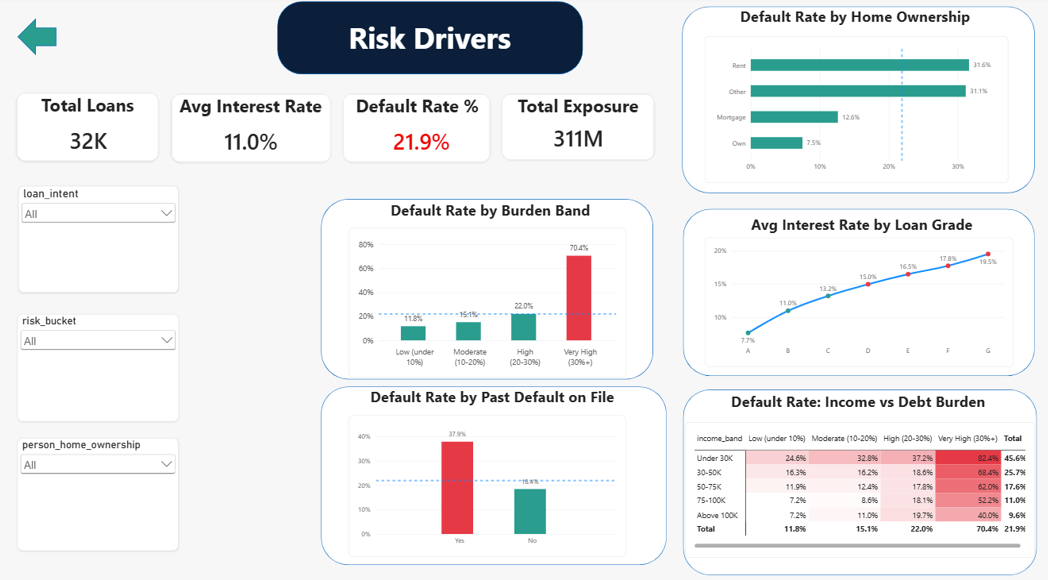

What the dashboard file says about the page in this screenshot:
{"tool":"powerbi","page":{"name":"Risk Drivers","canvas":[1920,1080],"ordinal":2},"visuals":[{"type":"textbox","box":[642.6,46,406.5,54.1],"z":0},{"type":"shape","box":[587.6,368.7,606.3,329.4],"z":1000},{"type":"shape","box":[1246.3,18.7,643.7,340.6],"z":2000},{"type":"shape","box":[1248.2,716.7,645.6,338.7],"z":3000},{"type":"shape","box":[587.6,711.1,630.6,325.6],"z":4000},{"type":"textbox","box":[713,370.5,368.5,54.1],"z":5000},{"type":"textbox","box":[671.8,711.1,458.5,52.4],"z":6000},{"type":"clusteredColumnChart","fields":{"Category":["loan.burden_band"],"Y":["loan.Defaults Rate%"]},"box":[638.1,421.1,505.3,273.2],"z":7000},{"type":"columnChart","fields":{"Category":["loan.cb_person_default_on_file"],"Y":["loan.Defaults Rate%"]},"box":[638.1,763.5,505.3,258.2],"z":8000},{"type":"clusteredBarChart","fields":{"Category":["loan.person_home_ownership"],"Y":["loan.Defaults Rate%"]},"box":[1289.4,73,553.9,267.6],"z":9000},{"type":"pivotTable","fields":{"Columns":["loan.burden_band"],"Rows":["loan.income_band"],"Values":["loan.Defaults Rate%"]},"box":[1251.9,776.6,638.1,247],"z":10000},{"type":"textbox","box":[1339.9,18.7,447.3,48.7],"z":11000},{"type":"textbox","box":[1315.2,720.8,505.3,56.1],"z":12000},{"type":"shape","box":[314.4,177.8,291.9,125.4],"z":16000},{"type":"shape","box":[917,177.8,278.8,121.6],"z":17000},{"type":"shape","box":[31.8,175.9,260.1,125.4],"z":18000},{"type":"shape","box":[628.8,177.8,269.5,125.4],"z":19000},{"type":"textbox","box":[41.2,175.9,241.4,44.9],"z":20000},{"type":"textbox","box":[930.1,177.8,254.3,42.1],"z":21000},{"type":"textbox","box":[641.9,177.8,243.3,44.9],"z":22000},{"type":"textbox","box":[318.1,177.8,282.6,46.8],"z":23000},{"type":"cardVisual","fields":{"Data":["loan.Total Loans"]},"box":[89.8,222.7,146.2,78.1],"z":24000},{"type":"cardVisual","fields":{"Data":["loan.Total Exposure"]},"box":[984.3,218.9,146.2,78.1],"z":25000},{"type":"cardVisual","fields":{"Data":["loan.Defaults Rate%"]},"box":[698,224.6,146.2,78.1],"z":26000},{"type":"cardVisual","fields":{"Data":["loan.Avg Interest rate"]},"box":[387.4,224.6,146.2,78.1],"z":27000},{"type":"shape","box":[1248.2,387.4,641.9,305],"z":28000},{"type":"textbox","box":[1362.3,396.7,424.8,54.3],"z":29000},{"type":"lineChart","fields":{"Category":["loan.loan_grade"],"Y":["loan.Avg Interest rate"]},"box":[1289.4,439.8,563.3,235.8],"z":30000},{"type":"shape","box":[509,9.4,557.7,132.9],"z":31000},{"type":"textbox","box":[565.1,37.4,443.5,78.6],"z":32000},{"type":"shape","box":[33.7,39.3,71.1,67.4],"z":33000},{"type":"slicer","fields":{"Values":["loan.loan_intent"]},"box":[35.6,346.2,291.9,194.6],"z":33001},{"type":"slicer","fields":{"Values":["loan.person_home_ownership"]},"box":[33.7,804.7,293.8,205.8],"z":33002},{"type":"slicer","fields":{"Values":["loan.risk_bucket"]},"box":[33.7,578.2,294.4,196.2],"z":33003}]}

Visuals, with their boxes in screenshot pixels (x1, y1, x2, y2), scaled from the page's 1920x1080 canvas onto the 1048x580 screenshot:
textbox: BBox(351, 25, 573, 54)
shape: BBox(321, 198, 652, 375)
shape: BBox(680, 10, 1032, 193)
shape: BBox(681, 385, 1034, 567)
shape: BBox(321, 382, 665, 557)
textbox: BBox(389, 199, 590, 228)
textbox: BBox(367, 382, 617, 410)
clusteredColumnChart - loan.burden_band x loan.Defaults Rate%: BBox(348, 226, 624, 373)
columnChart - loan.cb_person_default_on_file x loan.Defaults Rate%: BBox(348, 410, 624, 549)
clusteredBarChart - loan.person_home_ownership x loan.Defaults Rate%: BBox(704, 39, 1006, 183)
pivotTable - loan.burden_band x loan.income_band: BBox(683, 417, 1032, 550)
textbox: BBox(731, 10, 976, 36)
textbox: BBox(718, 387, 994, 417)
shape: BBox(172, 95, 331, 163)
shape: BBox(501, 95, 653, 161)
shape: BBox(17, 94, 159, 162)
shape: BBox(343, 95, 490, 163)
textbox: BBox(22, 94, 154, 119)
textbox: BBox(508, 95, 646, 118)
textbox: BBox(350, 95, 483, 120)
textbox: BBox(174, 95, 328, 121)
cardVisual - loan.Total Loans: BBox(49, 120, 129, 162)
cardVisual - loan.Total Exposure: BBox(537, 118, 617, 160)
cardVisual - loan.Defaults Rate%: BBox(381, 121, 461, 163)
cardVisual - loan.Avg Interest rate: BBox(211, 121, 291, 163)
shape: BBox(681, 208, 1032, 372)
textbox: BBox(744, 213, 975, 242)
lineChart - loan.loan_grade x loan.Avg Interest rate: BBox(704, 236, 1011, 363)
shape: BBox(278, 5, 582, 76)
textbox: BBox(308, 20, 551, 62)
shape: BBox(18, 21, 57, 57)
slicer - loan.loan_intent: BBox(19, 186, 179, 290)
slicer - loan.person_home_ownership: BBox(18, 432, 179, 543)
slicer - loan.risk_bucket: BBox(18, 311, 179, 416)
